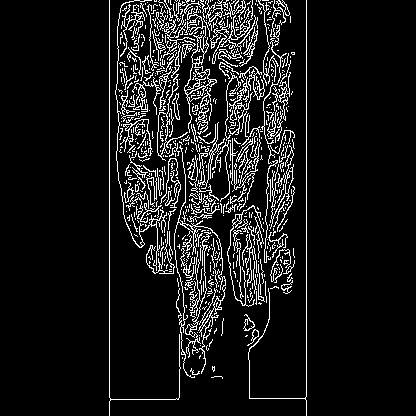buddha-sitting: (20, 49, 172, 184)
